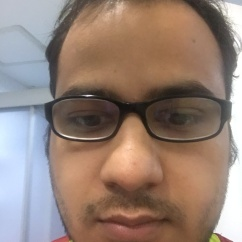glasses: (47, 89, 226, 140)
